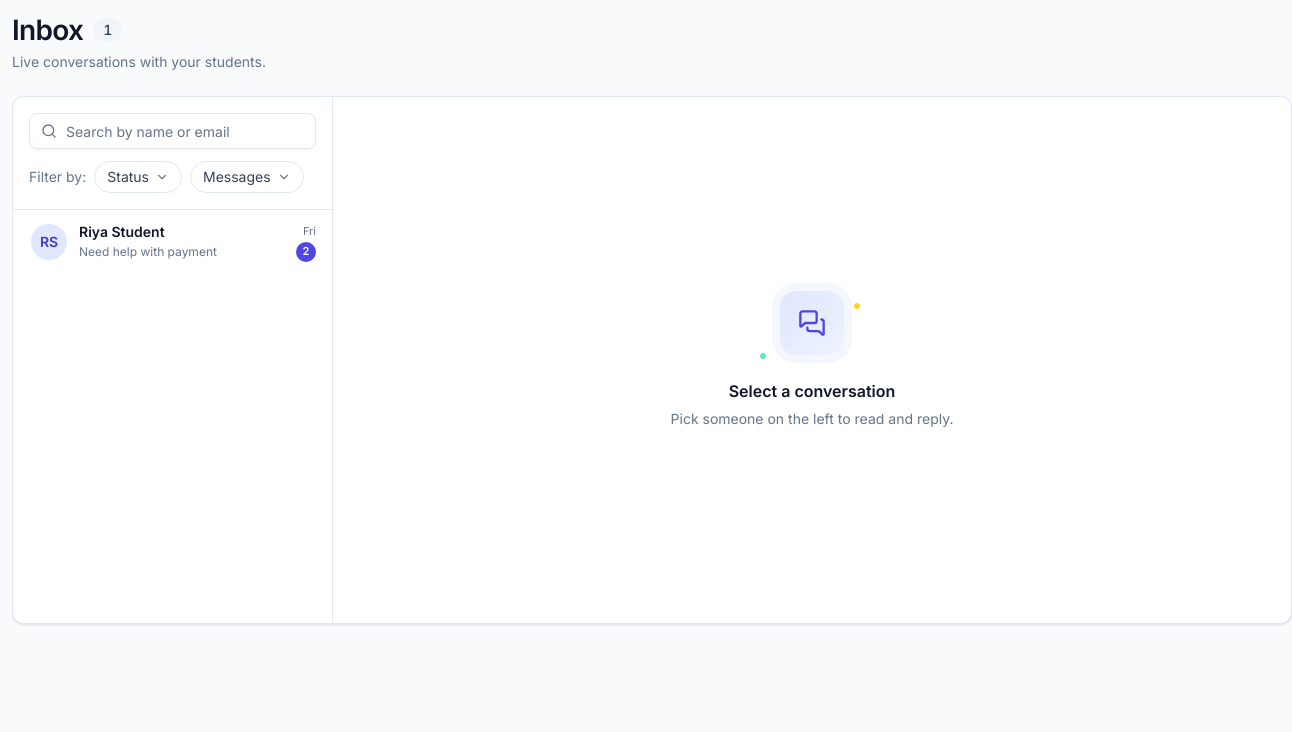
Test: staff inbox searches, opens a conversation with its contact header, replies and closes it
Expected: the heading "Inbox 1" is shown, [12,13,122,47]
Type "riya" into the field with placeholder "Search by name or email" at (172, 131), box [29,113,316,149]
Click the button "RS Riya Student Fri Need help with payment 2" at (172, 242), box [13,210,332,274]
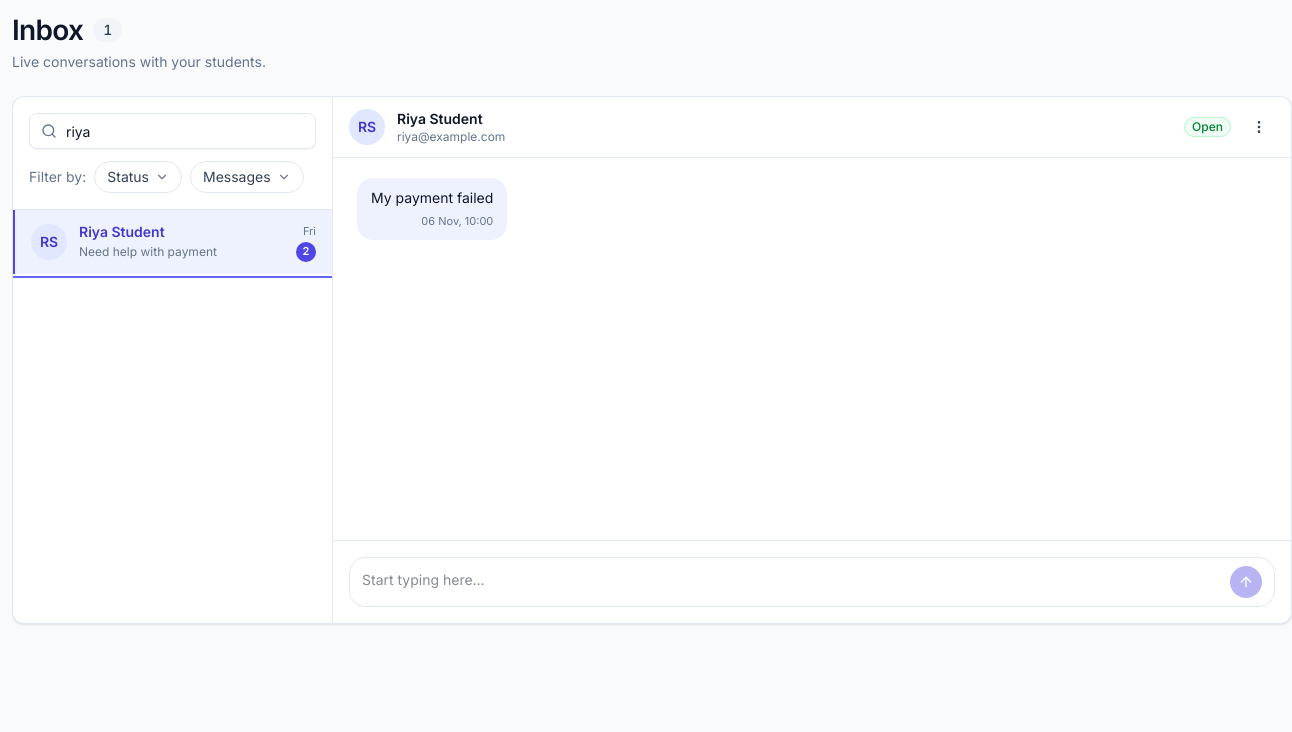
Expected: the text "My payment failed" is shown, [371,188,493,208]
Expected: the text "riya@example.com" is shown, [397,129,505,144]
Type "Please try again now." into the text box named "Message" at (792, 582), box [362,566,1222,598]
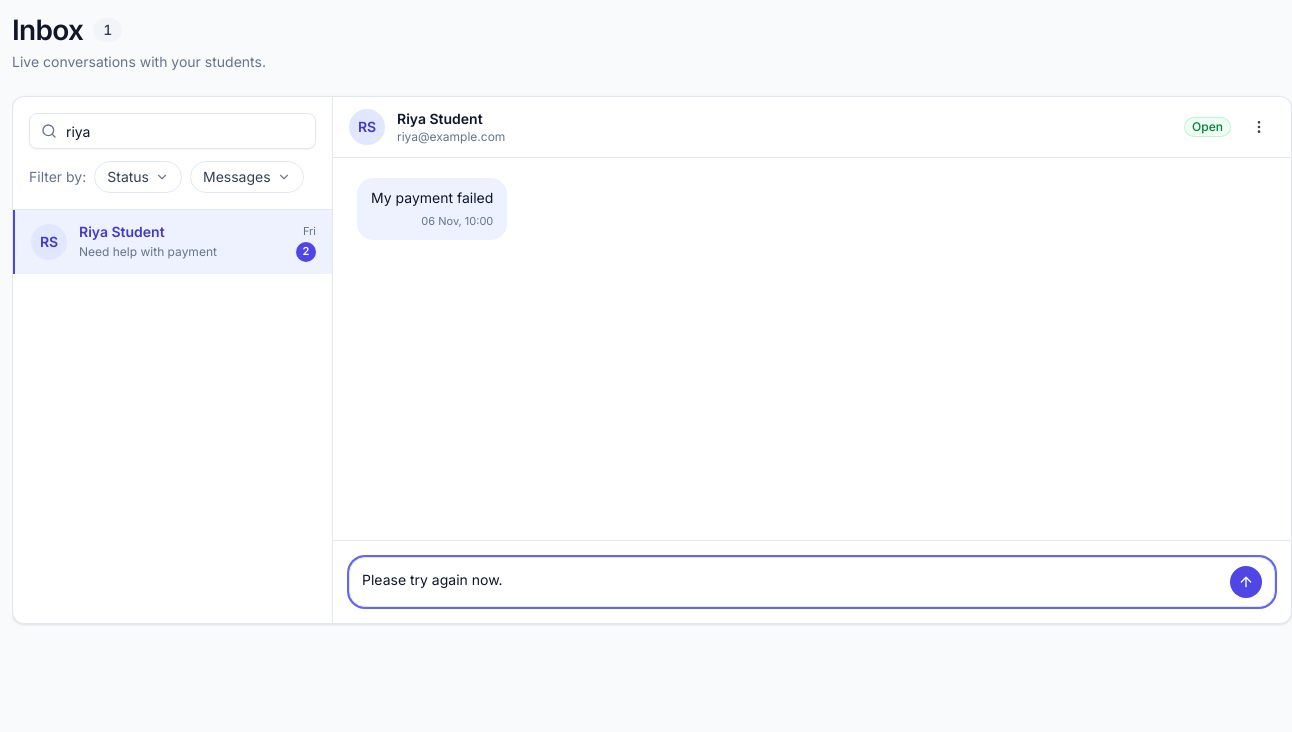
Click the button named "Send" at (1246, 582), box [1230,566,1262,598]
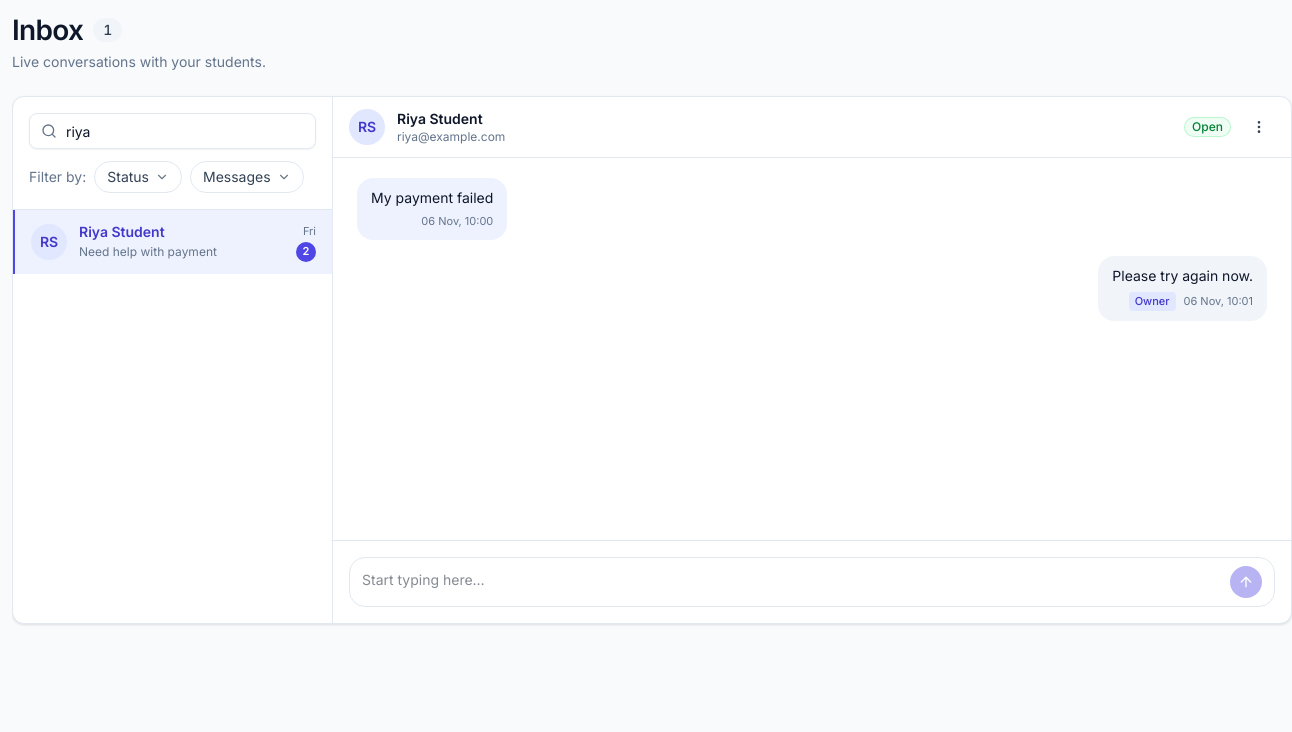
Expected: the text "Please try again now." is shown, [1112,266,1253,286]
Click the button named "Conversation actions" at (1259, 127), box [1243,111,1275,143]
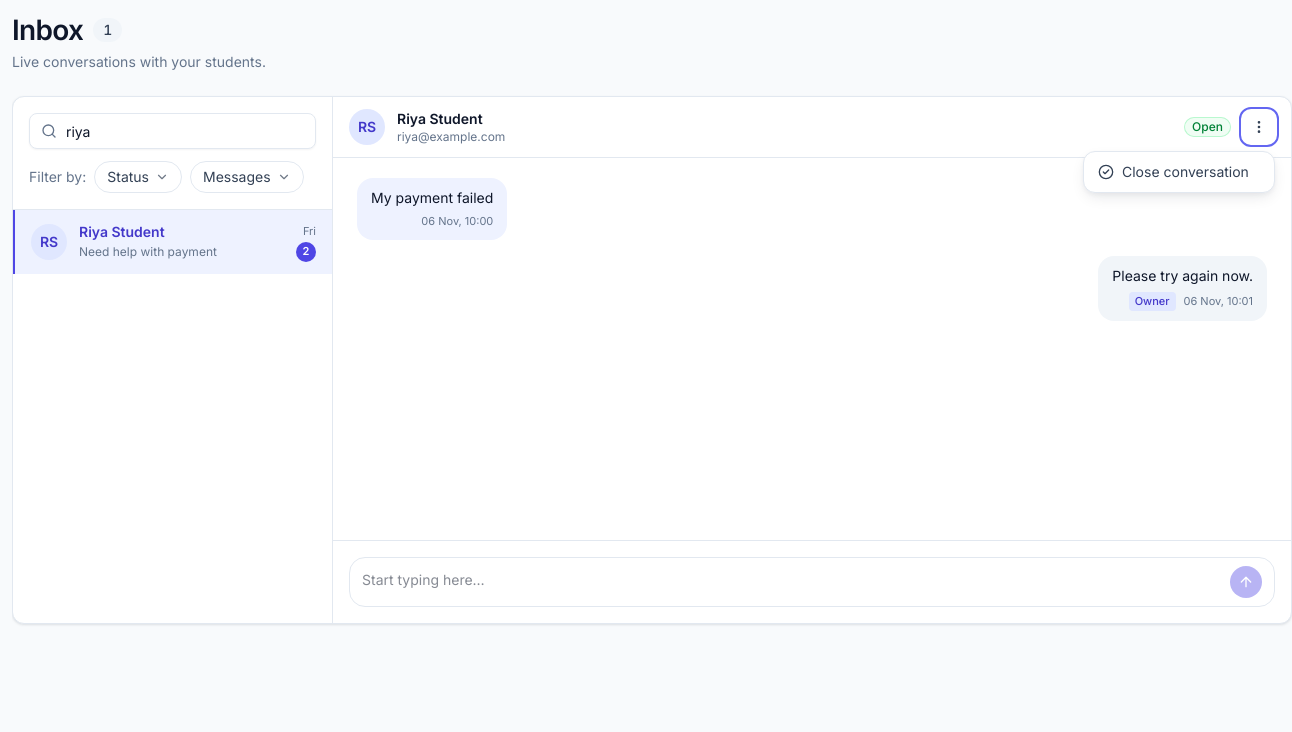
Click the menu item "Close conversation" at (1179, 172), box [1088,156,1270,188]
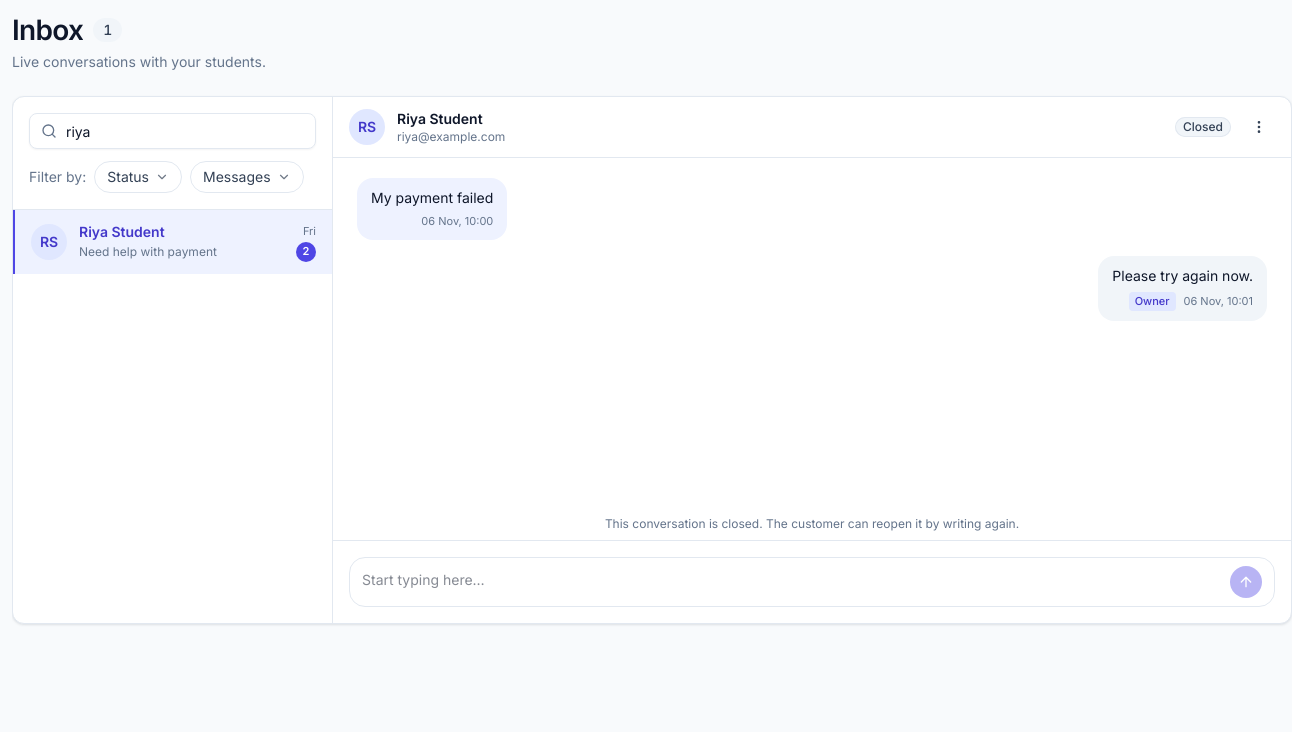
Click the button named "Conversation actions" at (1259, 127), box [1243,111,1275,143]
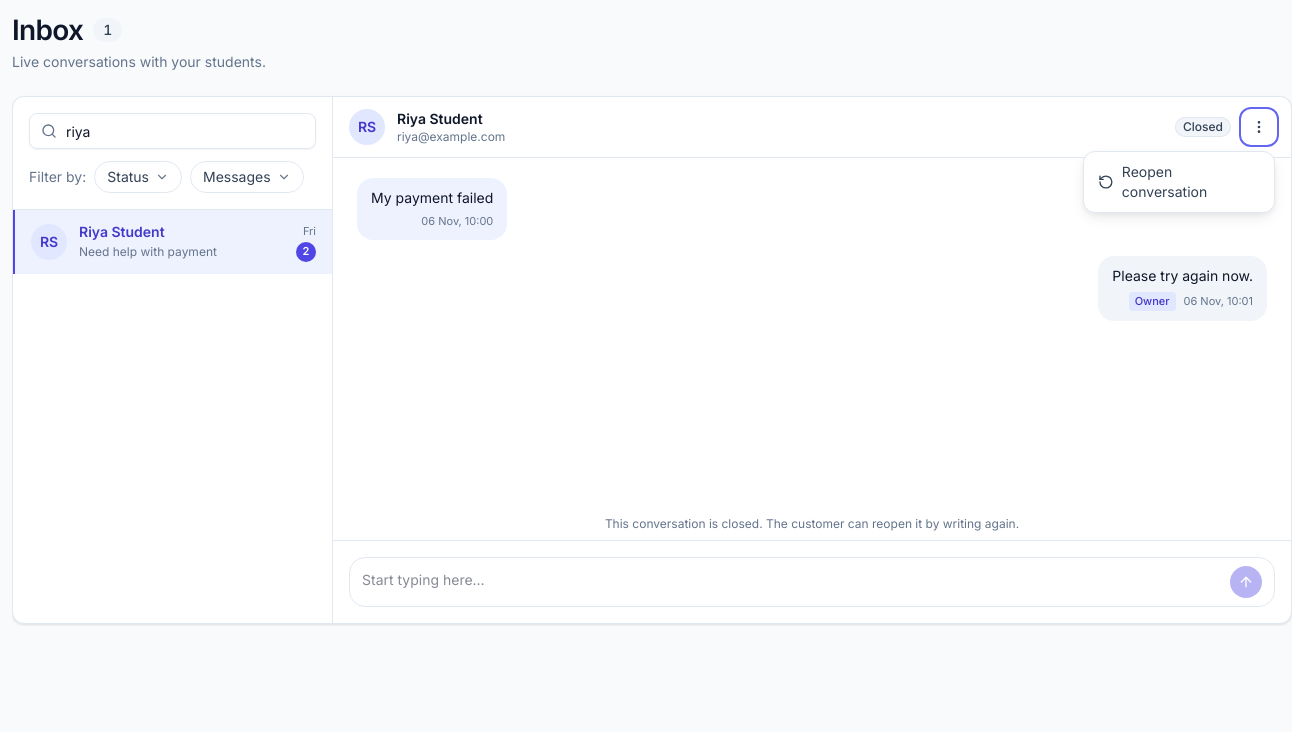
Expected: the text "This conversation is closed" is shown, [605,516,1019,531]
Expected: the menu item "Reopen conversation" is shown, [1088,156,1270,208]
